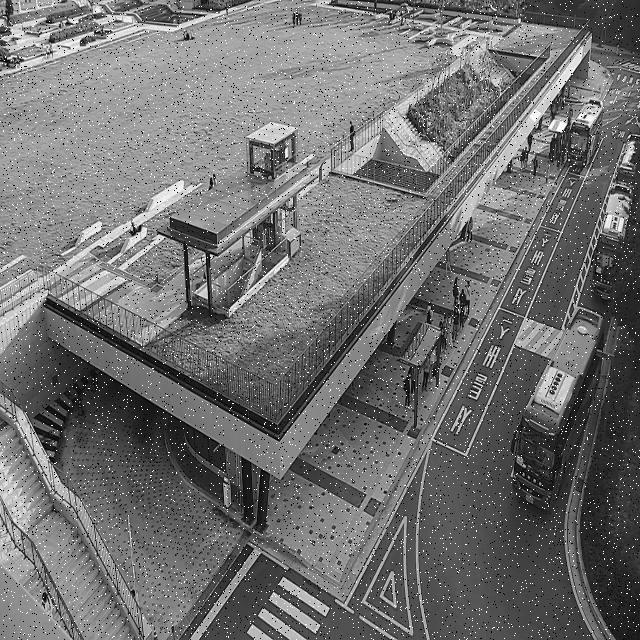queue: (413, 279, 470, 432)
